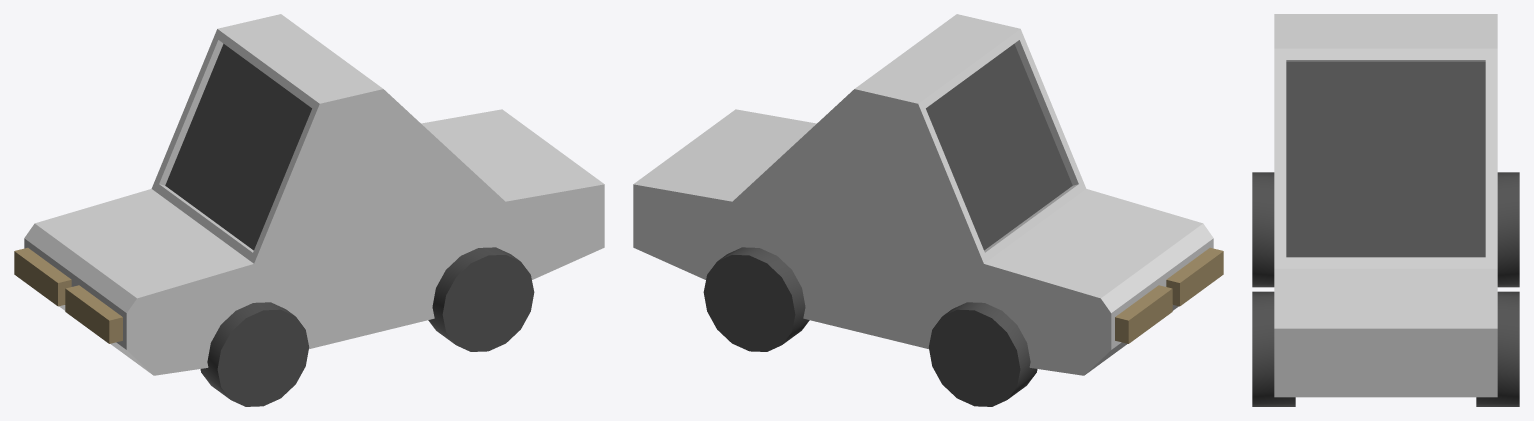
The model's file is car-custom-white.glb.
3 views of the same model, side by side, from view 1: azimuth 30°, elevation 25°; view 2: azimuth 150°, elevation 25°; view 3: azimuth 270°, elevation 25° (orthographic). The views are drawn at different scales.
Visible parts, largest first — view 1: Cube, WINDHIELD, Cylinder, Cylinder 1, lights; view 2: Cube, WINDHIELD, Cylinder 2, Cylinder 3, lights; view 3: Cube, WINDHIELD, Cylinder 1, Cylinder 3, Cylinder 2, Cylinder.
Boxes of the visible parts, left/top/right/bottom form: Cube: left=24, top=14, right=604, bottom=375; WINDHIELD: left=165, top=43, right=311, bottom=250; Cylinder: left=200, top=302, right=309, bottom=406; Cylinder 1: left=428, top=247, right=534, bottom=351; lights: left=14, top=247, right=122, bottom=343; Cube: left=633, top=14, right=1213, bottom=375; WINDHIELD: left=926, top=43, right=1072, bottom=250; Cylinder 2: left=928, top=302, right=1037, bottom=406; Cylinder 3: left=703, top=247, right=809, bottom=351; lights: left=1115, top=247, right=1223, bottom=343; Cube: left=1274, top=14, right=1497, bottom=397; WINDHIELD: left=1286, top=61, right=1485, bottom=257; Cylinder 1: left=1252, top=291, right=1295, bottom=406; Cylinder 3: left=1476, top=291, right=1519, bottom=406; Cylinder 2: left=1497, top=172, right=1519, bottom=287; Cylinder: left=1252, top=172, right=1274, bottom=287.
Size of the model in its own units: 0.1444 by 0.0782 by 0.0625.
